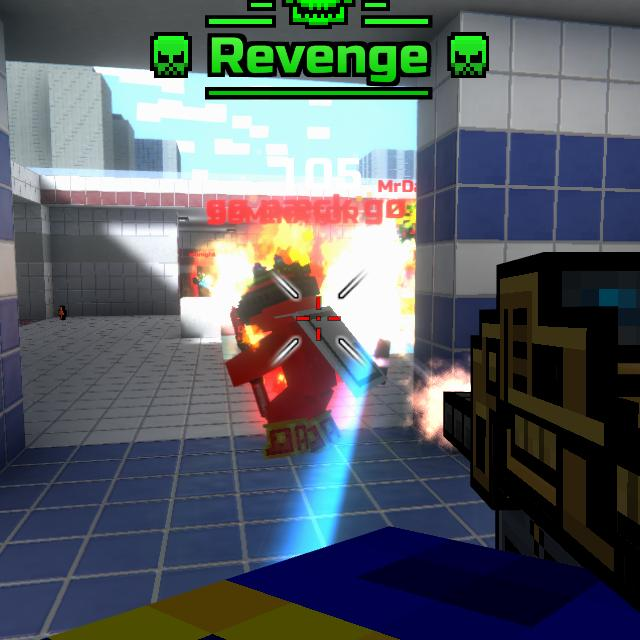Enemy: (231, 250, 356, 465), (190, 266, 211, 298)
